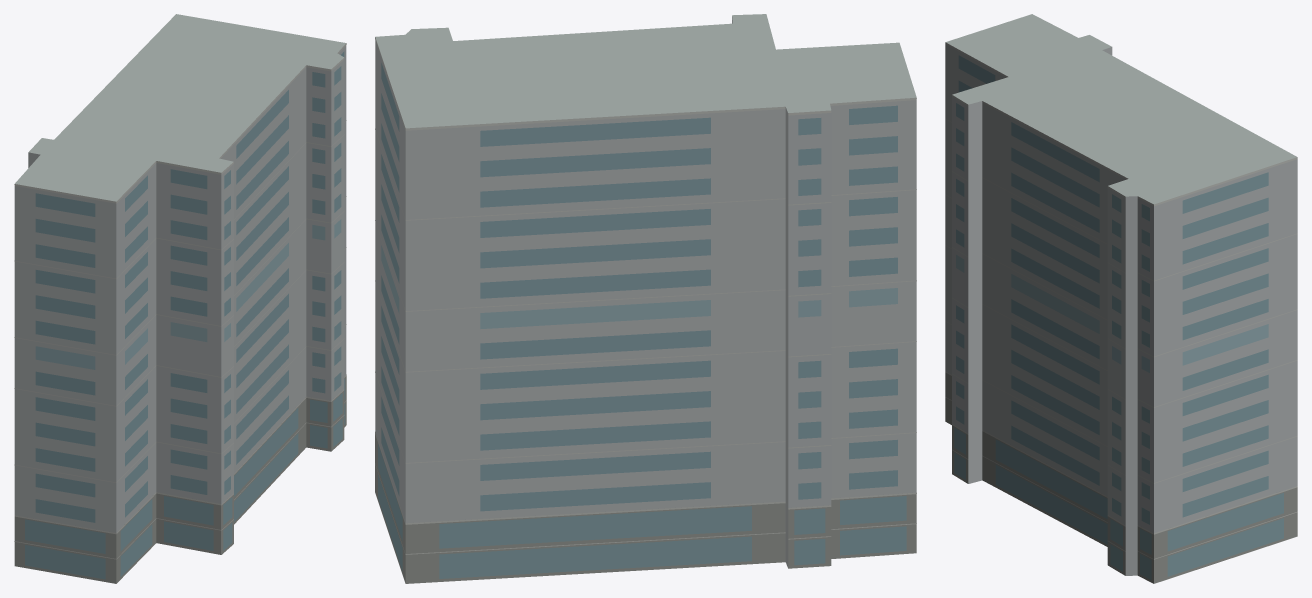
The model's file is survey-upis-32790334.glb.
3 views of the same model, side by side, from view 1: azimuth 30°, elevation 25°; view 2: azimuth 150°, elevation 25°; view 3: azimuth 270°, elevation 25° (orthographic). The views are drawn at different scales.
Visible parts, largest first — view 1: survey-upis-32790334.tmp; view 2: survey-upis-32790334.tmp; view 3: survey-upis-32790334.tmp.
Boxes of the visible parts, <box> form: survey-upis-32790334.tmp: <box>14,14,346,583</box>; survey-upis-32790334.tmp: <box>375,14,916,583</box>; survey-upis-32790334.tmp: <box>945,14,1297,583</box>.
Bounding box in the file's own units: 49.27 × 45.75 × 38.5.
